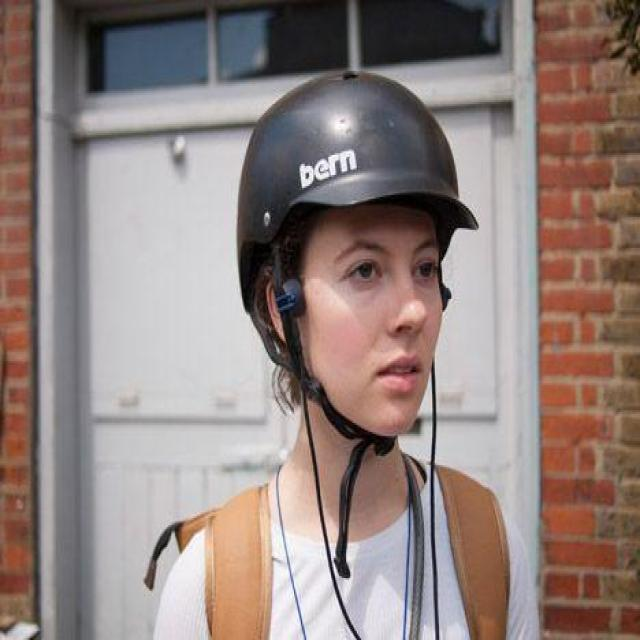helmet: (238, 70, 482, 458)
